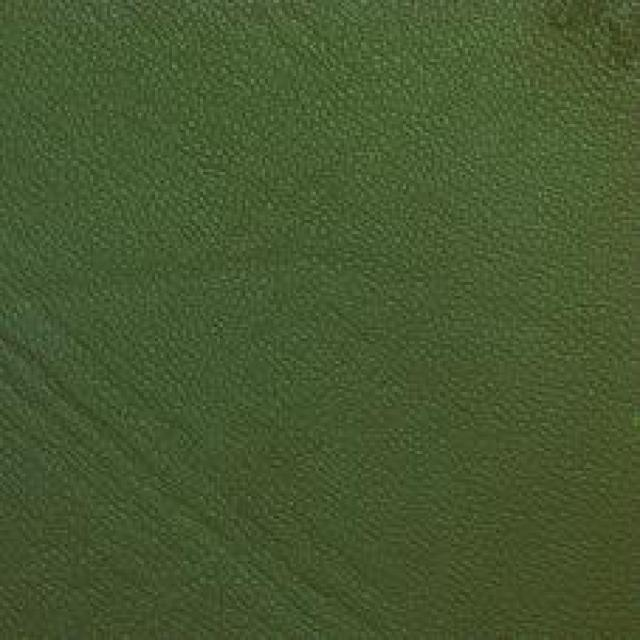Growth Marks: (186, 440, 365, 620), (21, 329, 184, 498)
